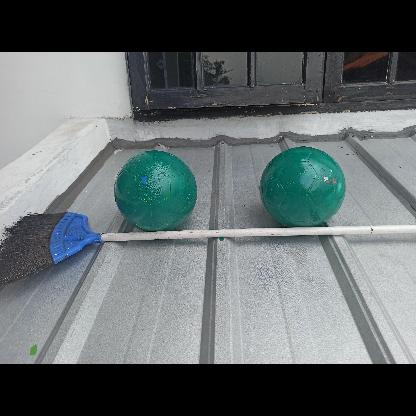green_ball: (114, 148, 196, 230), (264, 145, 346, 227)
